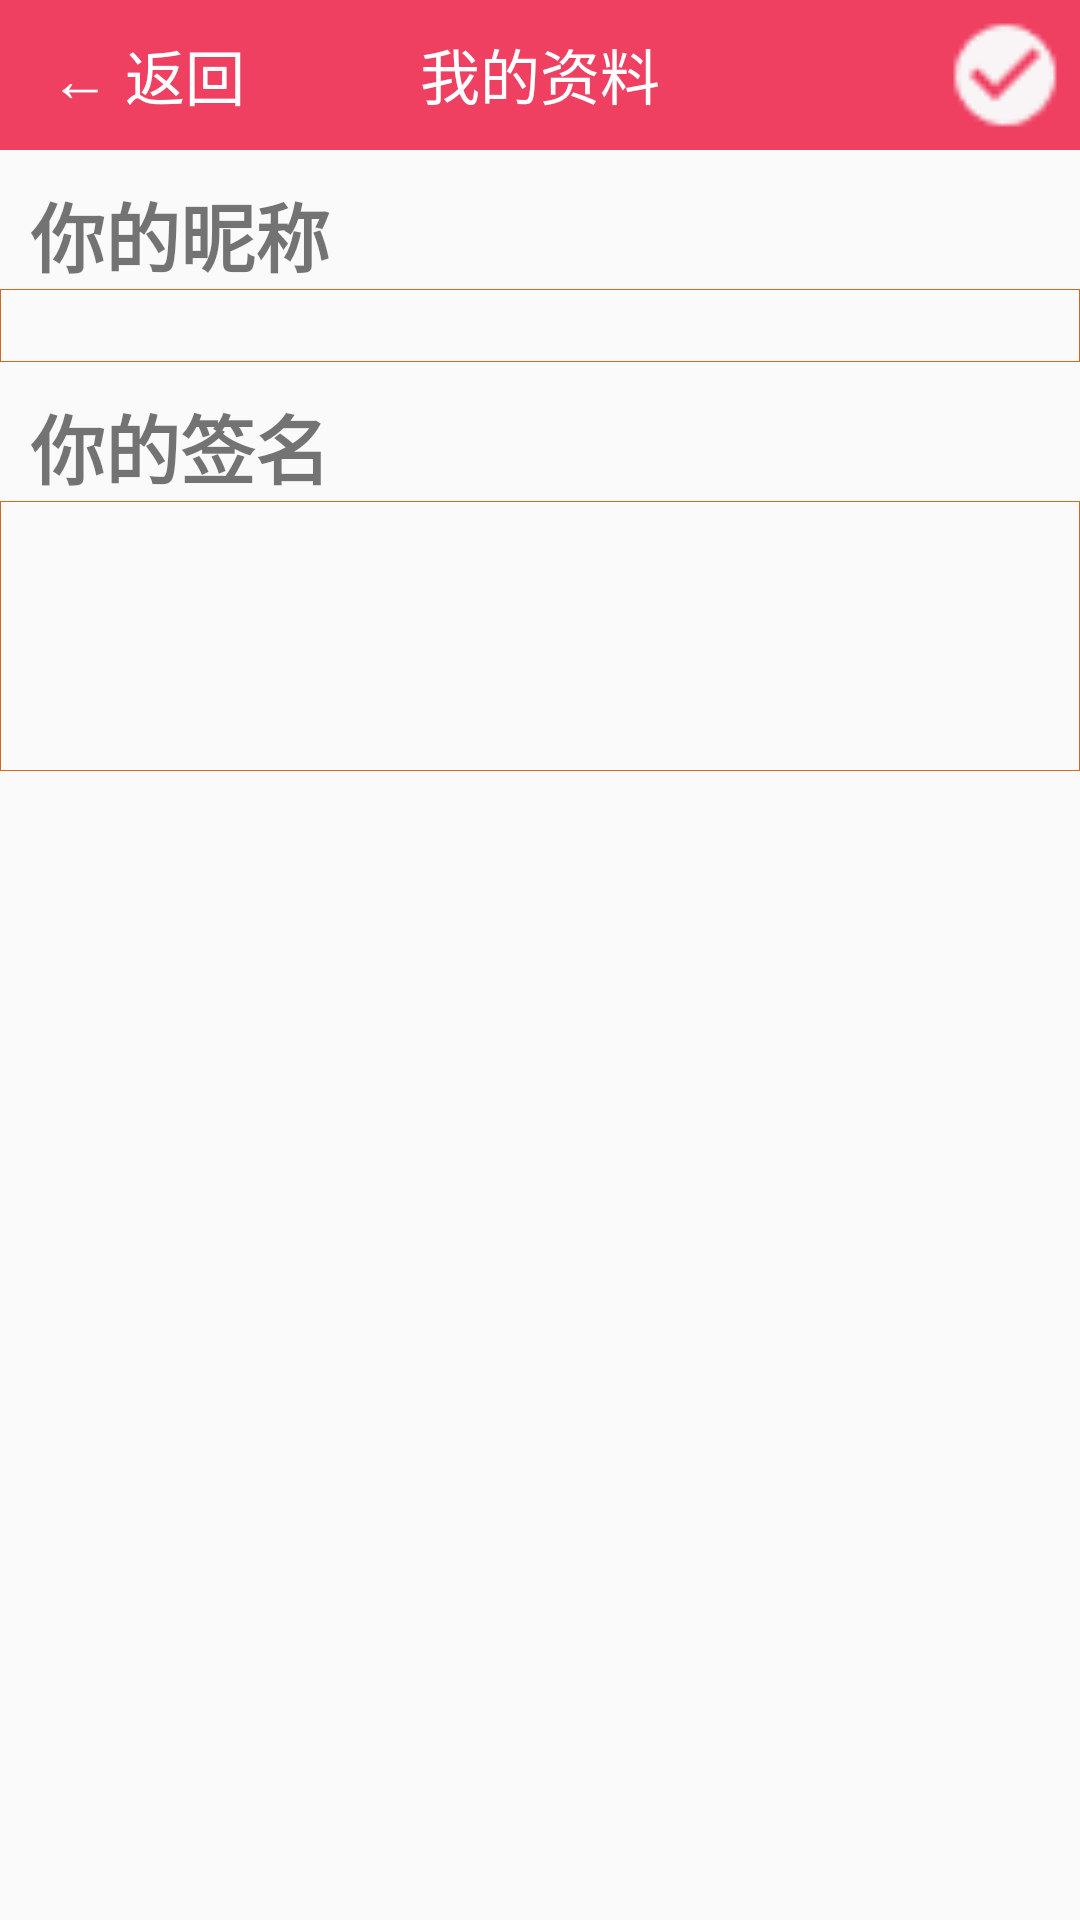

Icon bounding boxes for this 1080x1920 phone screenshot, format (x1, y1, x2, y2):
confirm: (953, 23, 1057, 127)
